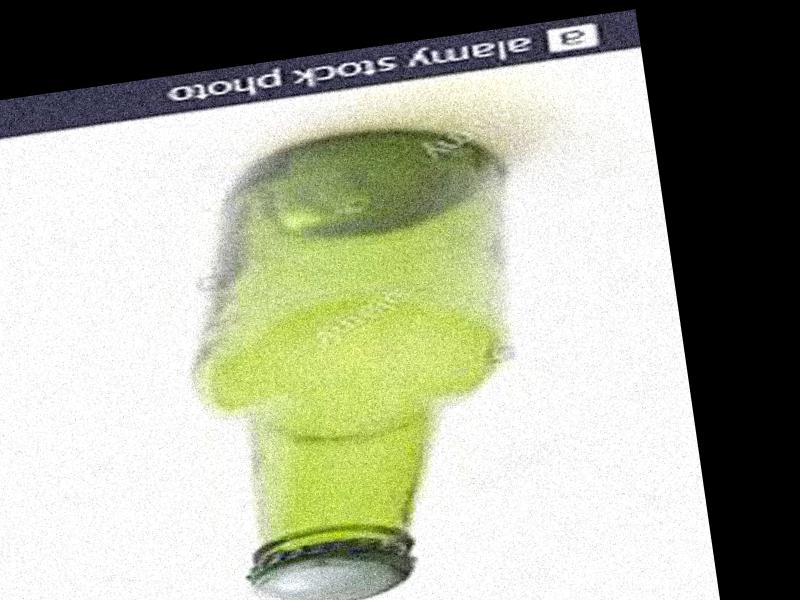Beer: (185, 114, 560, 600)
